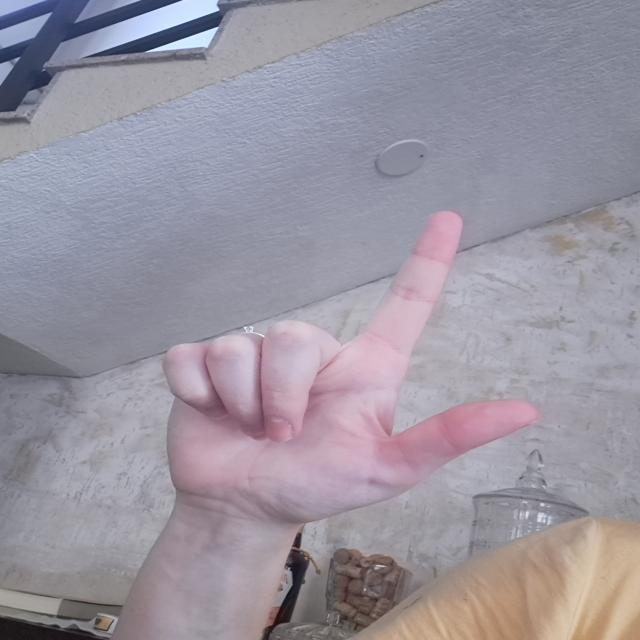L: (146, 186, 546, 530)
